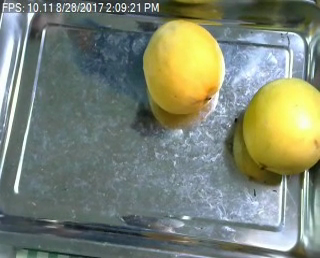Mango: (141, 17, 226, 115), (243, 76, 320, 175)
